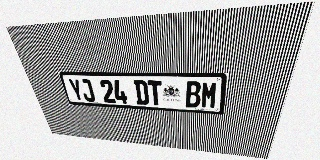2: (99, 79, 116, 103)
4: (112, 80, 128, 104)
B: (186, 81, 201, 108)
D: (133, 80, 149, 105)
J: (79, 79, 96, 102)
M: (201, 81, 218, 109)
T: (147, 80, 163, 106)
Y: (68, 79, 85, 101)
